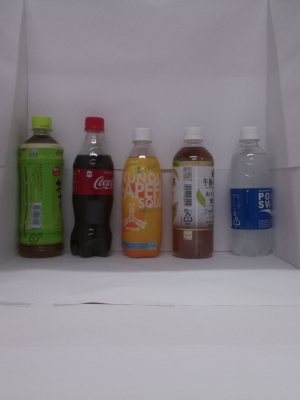おーいお茶: (13, 111, 67, 265)
グレープフルーツスカッシュ: (119, 119, 168, 266)
コーラ: (68, 109, 117, 265)
ポカリスエット: (223, 120, 279, 265)
午後の紅茶: (168, 122, 219, 265)
